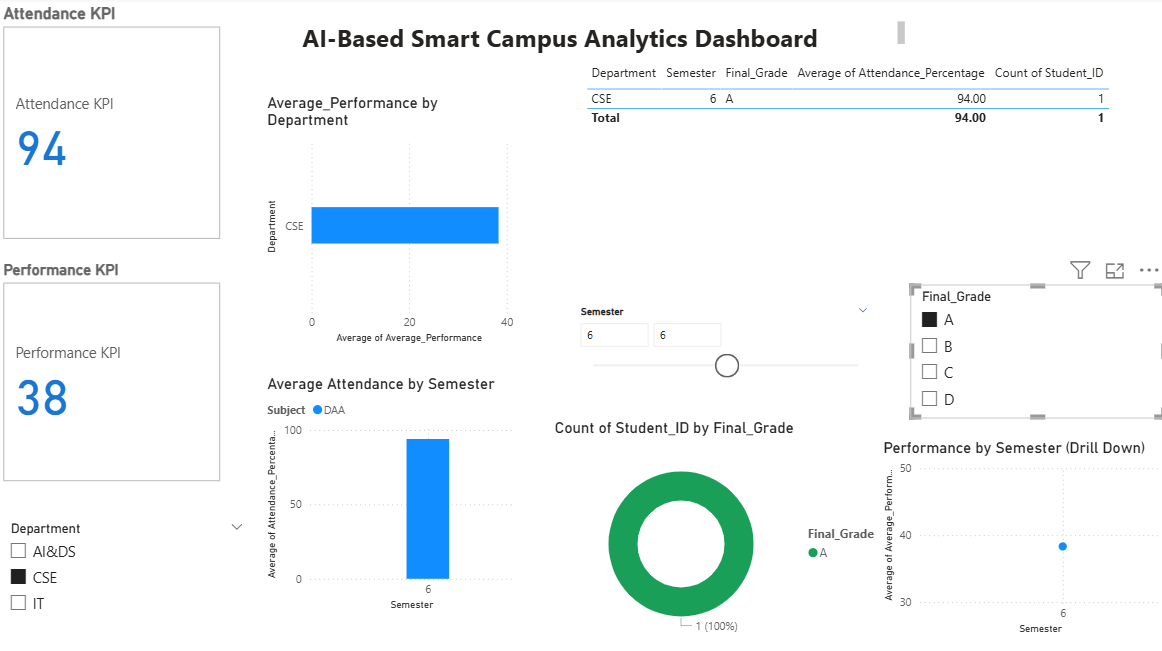

This screenshot's page, from the dashboard's own definition file:
{"tool":"powerbi","page":{"name":"Page 1","canvas":[1280,720],"ordinal":0},"visuals":[{"type":"cardVisual","title":"Attendance KPI","fields":{"Data":["Avg(5 student_performance.Attendance_Percentage)"]},"box":[0,7.1,248.6,264.3],"z":0},{"type":"cardVisual","title":"Performance KPI","fields":{"Data":["Avg(5 student_performance.Average_Performance)"]},"box":[0,290,248,248],"z":1000},{"type":"slicer","fields":{"Values":["5 student_performance.Department"]},"box":[0,570,280,150],"z":2000},{"type":"slicer","fields":{"Values":["5 student_performance.Semester"]},"box":[625.7,332.9,340,104.3],"z":3000},{"type":"clusteredBarChart","title":"Average_Performance by Department","fields":{"Category":["5 student_performance.Department"],"Y":["Avg(5 student_performance.Average_Performance)"]},"box":[290,105.7,280,280],"z":4000},{"type":"clusteredColumnChart","title":"Average Attendance by Semester","fields":{"Category":["5 student_performance.Semester"],"Y":["Avg(5 student_performance.Attendance_Percentage)"],"Series":["5 student_performance.Subject"]},"box":[290,414.3,280,264.3],"z":5000},{"type":"tableEx","fields":{"Values":["5 student_performance.Department","5 student_performance.Semester","5 student_performance.Final_Grade","Avg(5 student_performance.Attendance_Percentage)","CountNonNull(5 student_performance.Student_ID)"]},"box":[640,67.1,602.9,248.6],"z":6000},{"type":"donutChart","fields":{"Category":["5 student_performance.Final_Grade"],"Y":["CountNonNull(5 student_performance.Student_ID)"]},"box":[605.7,462.9,378.6,257.1],"z":7000},{"type":"slicer","fields":{"Values":["5 student_performance.Final_Grade"]},"box":[1000,315.7,280,147.1],"z":8000},{"type":"areaChart","title":"Performance by Semester (Drill Down)","fields":{"Category":["5 student_performance.Department","5 student_performance.Semester","5 student_performance.Student_ID"],"Y":["Avg(5 student_performance.Average_Performance)"]},"box":[965.7,484.3,314.3,220],"z":9000},{"type":"textbox","box":[328.6,21.4,671.4,45.7],"z":11000}]}

Visuals, with their boxes on the page's 1280x720 design canvas (x1, y1, x2, y2). These are canvas units, not pixel positions in the 1162x651 screenshot, which may show the page scaled, cropped or inside an application window:
"Attendance KPI" cardVisual: rect(0, 7, 249, 271)
"Performance KPI" cardVisual: rect(0, 290, 248, 538)
slicer - 5 student_performance.Department: rect(0, 570, 280, 720)
slicer - 5 student_performance.Semester: rect(626, 333, 966, 437)
"Average_Performance by Department" clusteredBarChart: rect(290, 106, 570, 386)
"Average Attendance by Semester" clusteredColumnChart: rect(290, 414, 570, 679)
tableEx - 5 student_performance.Department x 5 student_performance.Semester: rect(640, 67, 1243, 316)
donutChart - 5 student_performance.Final_Grade x CountNonNull(5 student_performance.Student_ID): rect(606, 463, 984, 720)
slicer - 5 student_performance.Final_Grade: rect(1000, 316, 1280, 463)
"Performance by Semester (Drill Down)" areaChart: rect(966, 484, 1280, 704)
textbox: rect(329, 21, 1000, 67)
